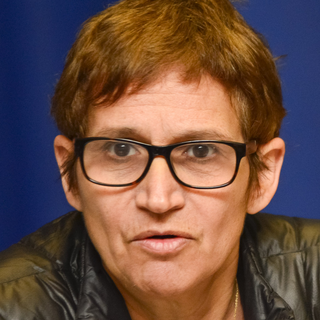eye: (178, 138, 225, 165), (101, 135, 143, 165)
